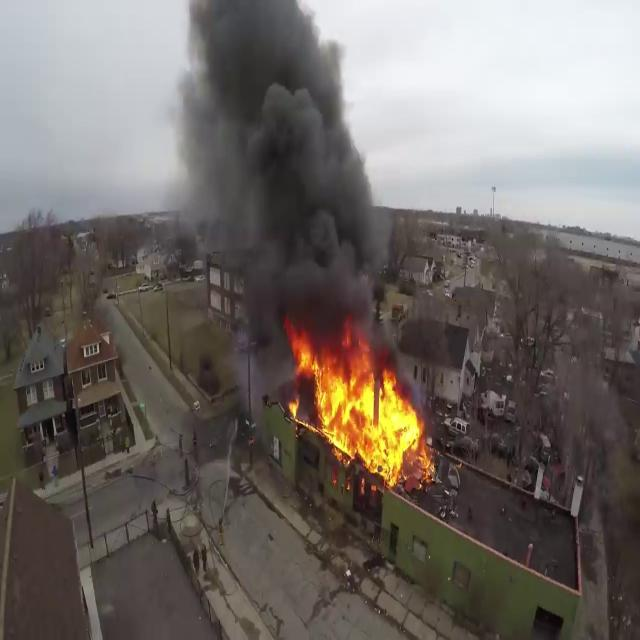Fire: (286, 333, 438, 492)
Smoke: (166, 0, 394, 340)
